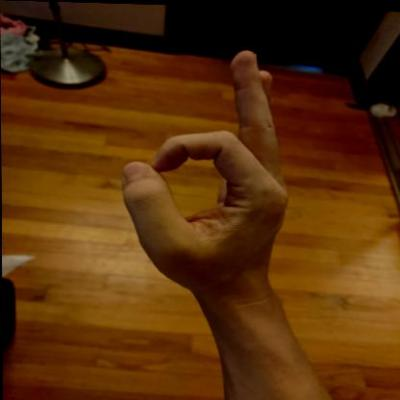hand: (117, 44, 295, 294)
